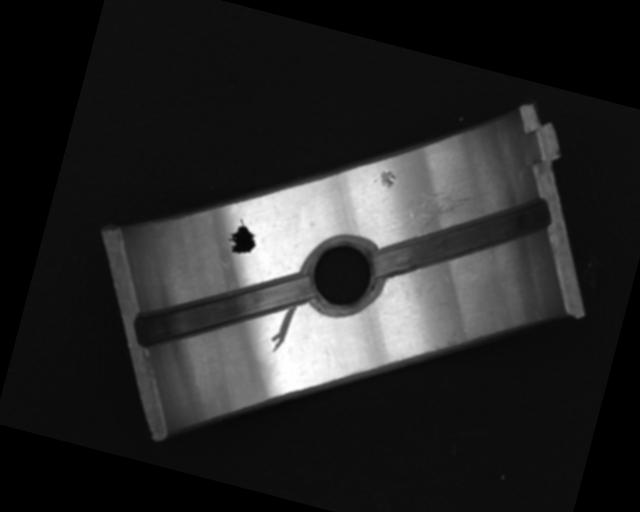blot: (224, 215, 262, 258)
bruise: (372, 166, 398, 190)
gap: (369, 161, 556, 315), (132, 239, 312, 381)
hole: (294, 229, 389, 323)
nick: (267, 302, 297, 355)
scratch: (405, 171, 492, 250)
